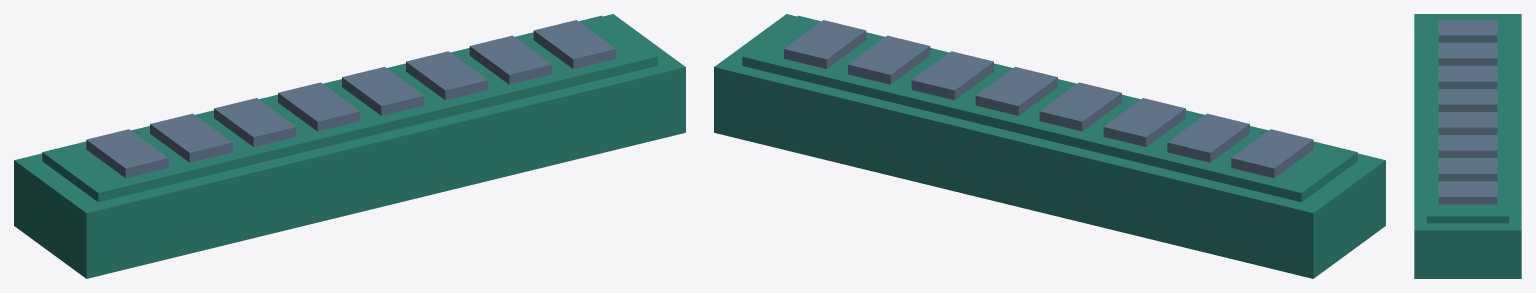
Rendered from memoria-ram.gltf.
3 views of the same model, side by side, from view 1: azimuth 30°, elevation 25°; view 2: azimuth 150°, elevation 25°; view 3: azimuth 270°, elevation 25° (orthographic). The views are drawn at different scales.
Parts seen in each view (by area): view 1: Parte_1, Parte_2, Parte_3, Parte_6, Parte_7, Parte_9, Parte_10, Parte_4, Parte_5, Parte_8; view 2: Parte_1, Parte_2, Parte_3, Parte_6, Parte_7, Parte_9, Parte_10, Parte_4, Parte_5, Parte_8; view 3: Parte_1, Parte_2, Parte_9, Parte_10, Parte_3, Parte_4, Parte_5, Parte_6, Parte_7, Parte_8.
Boxes of the visible parts, x1,y1,x2,y2 form: Parte_1: (14, 14, 685, 278); Parte_2: (42, 15, 657, 202); Parte_3: (86, 129, 168, 178); Parte_6: (278, 82, 360, 131); Parte_7: (342, 66, 424, 115); Parte_9: (469, 35, 551, 84); Parte_10: (533, 20, 615, 68); Parte_4: (150, 113, 232, 162); Parte_5: (214, 98, 296, 146); Parte_8: (406, 51, 488, 100); Parte_1: (714, 14, 1385, 278); Parte_2: (742, 15, 1357, 202); Parte_3: (1231, 129, 1313, 178); Parte_6: (1039, 82, 1121, 131); Parte_7: (975, 66, 1057, 115); Parte_9: (848, 35, 930, 84); Parte_10: (784, 20, 866, 68); Parte_4: (1167, 113, 1249, 162); Parte_5: (1103, 98, 1185, 146); Parte_8: (911, 51, 993, 100); Parte_1: (1414, 14, 1521, 278); Parte_2: (1426, 14, 1509, 223); Parte_9: (1438, 158, 1497, 181); Parte_10: (1438, 181, 1497, 204); Parte_3: (1438, 20, 1497, 42); Parte_4: (1438, 43, 1497, 65); Parte_5: (1438, 66, 1497, 88); Parte_6: (1438, 89, 1497, 111); Parte_7: (1438, 112, 1497, 134); Parte_8: (1438, 135, 1497, 157).
Size of the model in its own units: 1.05 by 0.1655 by 0.22.
